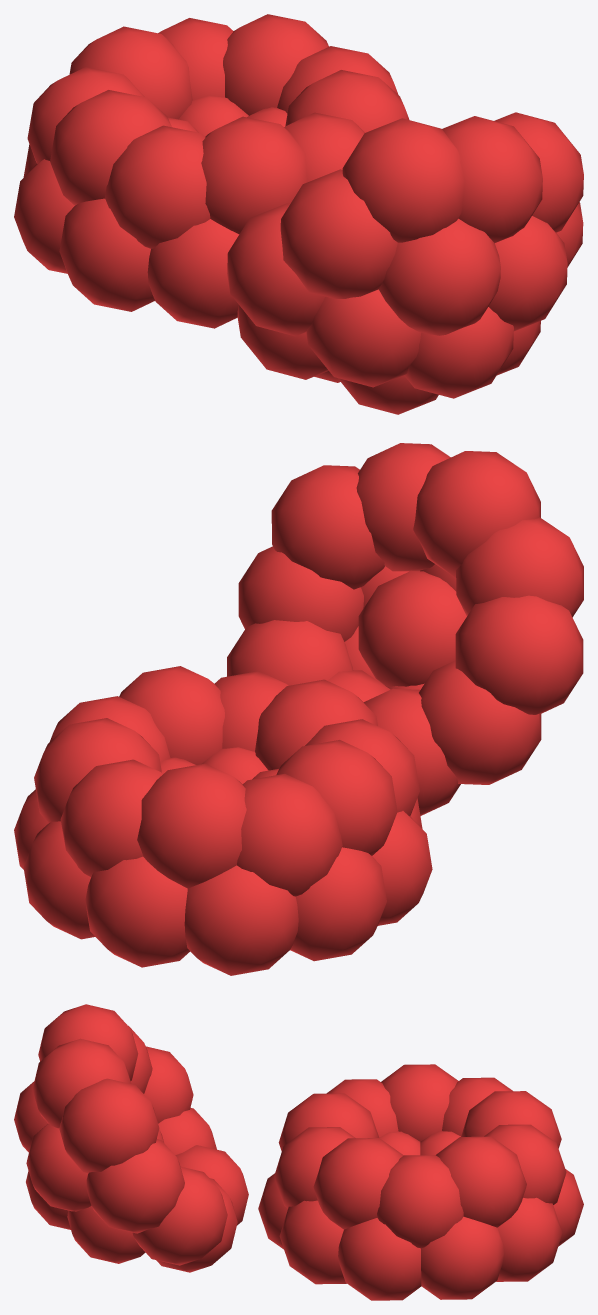
The model's file is malina-cut.gltf.
3 renders of one model, top to bottom at view 1: azimuth 30°, elevation 25°; view 2: azimuth 150°, elevation 25°; view 3: azimuth 270°, elevation 25°, orthographic. The views are drawn at different scales.
Parts seen in each view (by area): view 1: Icosphere.002, Icosphere.035; view 2: Icosphere.035, Icosphere.002; view 3: Icosphere.035, Icosphere.002.
Part boxes in pixels (box(x1,y1,x2,y2)): Icosphere.002: box(227, 112, 583, 414); Icosphere.035: box(14, 14, 409, 328); Icosphere.035: box(14, 666, 432, 975); Icosphere.002: box(227, 443, 583, 815); Icosphere.035: box(258, 1064, 583, 1300); Icosphere.002: box(14, 1004, 248, 1272).
Size of the model in its own units: 0.9227 by 0.7609 by 1.7.
2 materials, 2 textured.
